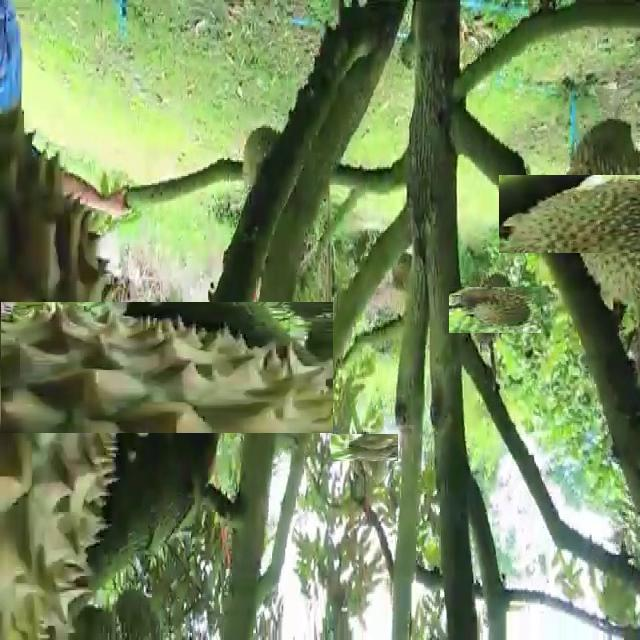durian: (0, 202, 233, 534), (530, 144, 640, 285), (234, 116, 290, 208), (460, 275, 530, 344), (340, 424, 388, 471)
